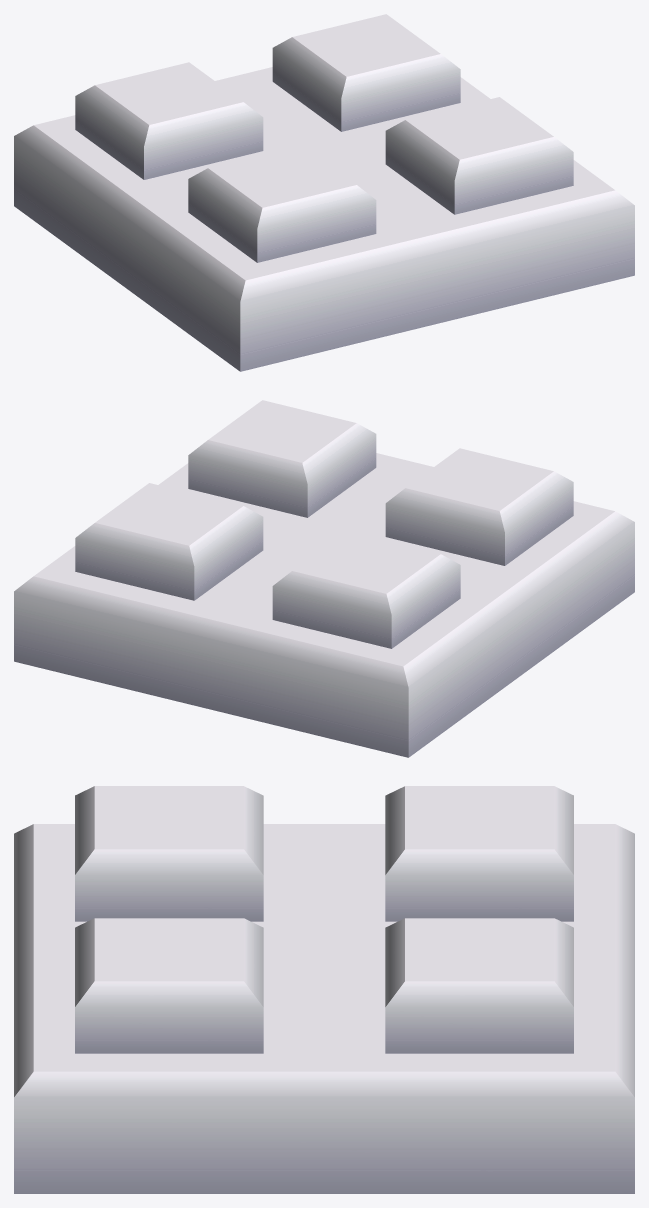
File: square-hq-plate-2x2.glb
3 renders of one model, top to bottom at view 1: azimuth 30°, elevation 25°; view 2: azimuth 150°, elevation 25°; view 3: azimuth 270°, elevation 25°, orthographic. The views are drawn at different scales.
Visible parts, largest first — view 1: square-hq-plate-2x2; view 2: square-hq-plate-2x2; view 3: square-hq-plate-2x2.
Boxes of the visible parts, x1,y1,x2,y2 form: square-hq-plate-2x2: (14, 14, 634, 371); square-hq-plate-2x2: (14, 400, 634, 757); square-hq-plate-2x2: (14, 786, 634, 1193).
Size of the model in its own units: 0.159 by 0.05 by 0.158.
Materials: 1 (1 with a texture image).
